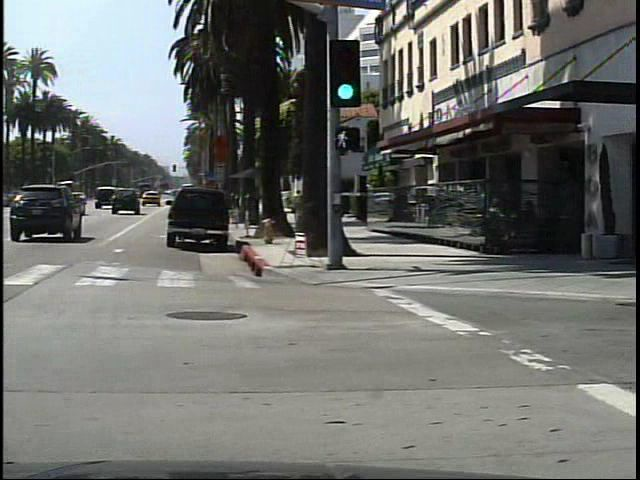person: (311, 186, 324, 228)
